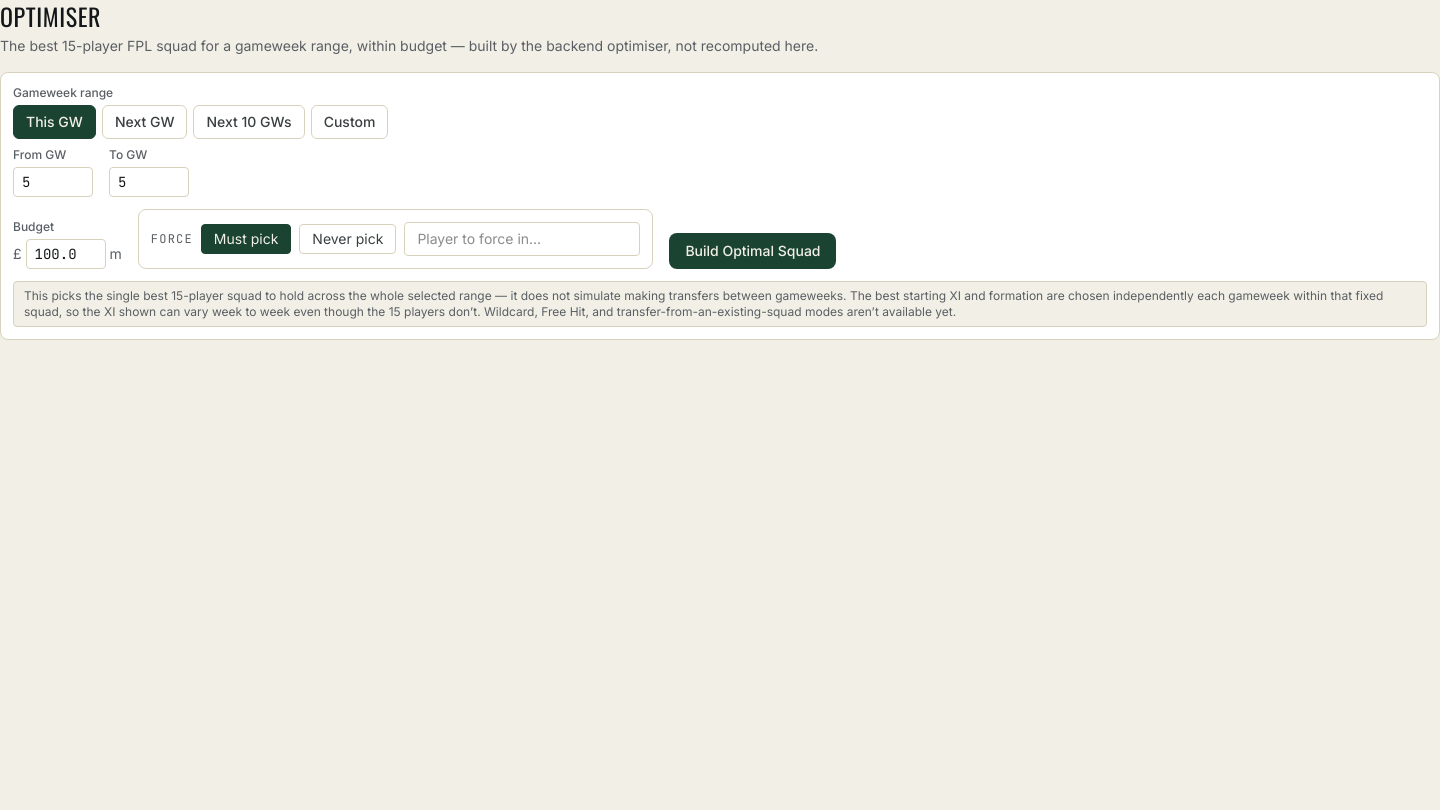
Scenario: OptimalSquadPage › shows exactly 15 squad players with the correct 2/5/5/3 position split, and a visually distinct bench
The image size is (1440, 810).
Expected: the button "This GW" is shown, top-left (13, 105), bottom-right (96, 139)
Click the button "Build Optimal Squad": (753,251) top-left (669, 233), bottom-right (836, 269)
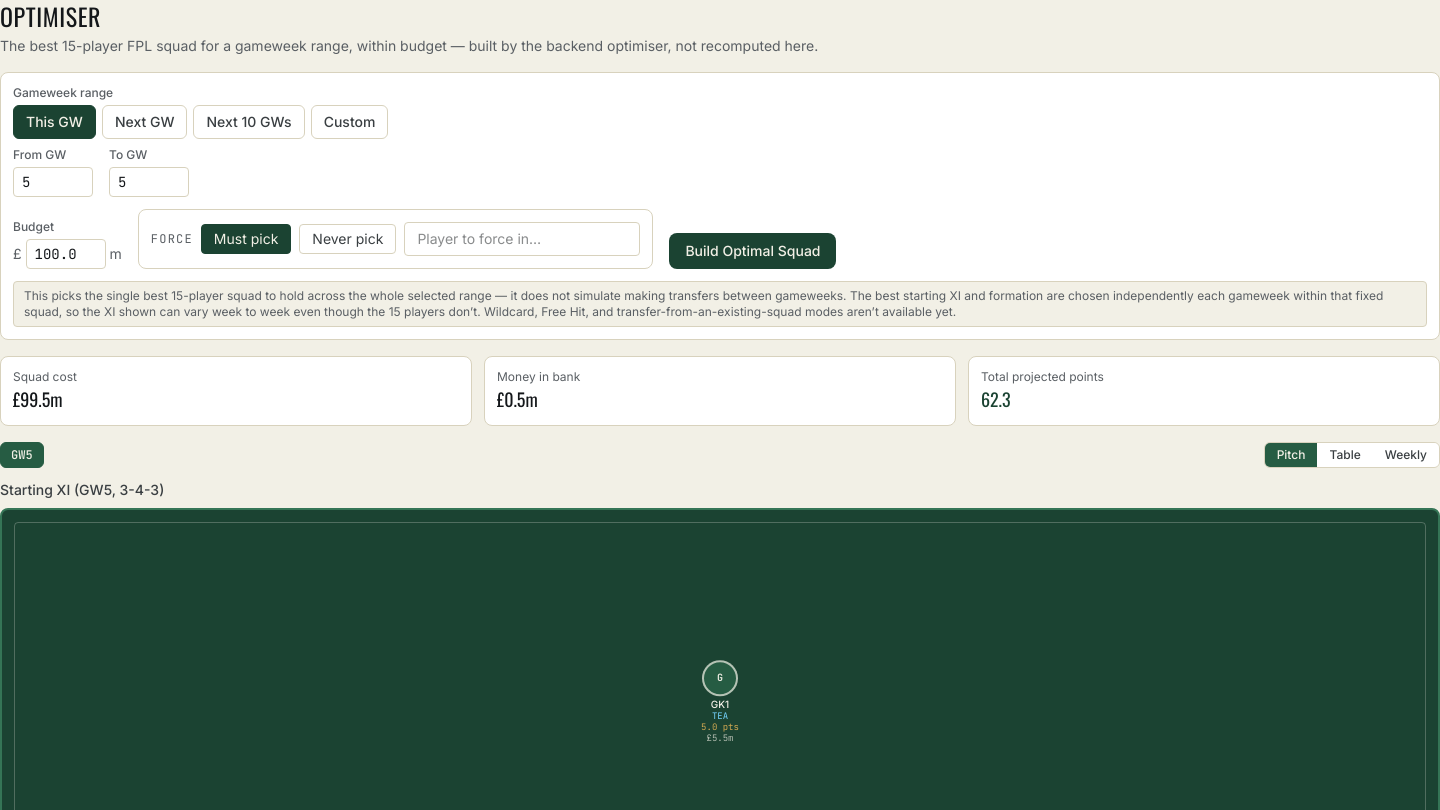
Expected: the text "GK1" is shown, top-left (711, 698), bottom-right (729, 710)
Expected: the text "£99.5m" is shown, top-left (13, 386), bottom-right (62, 412)
Expected: the text "£0.5m" is shown, top-left (497, 386), bottom-right (538, 412)
